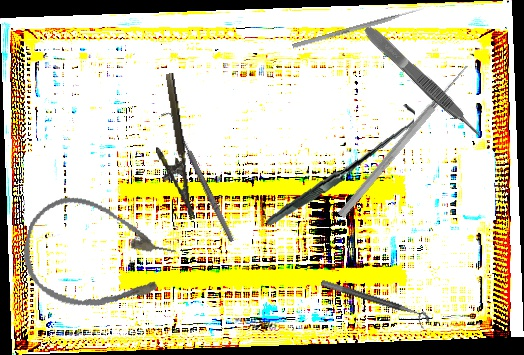Cannula: (13, 187, 183, 327)
Fixation Ring: (317, 278, 432, 331)
Hook Surgical: (266, 93, 416, 237), (160, 108, 237, 246)
Needle Holder: (145, 72, 196, 224)
Pusher: (336, 62, 472, 220), (291, 6, 426, 49)
Tissue Forceps: (361, 22, 485, 142)
